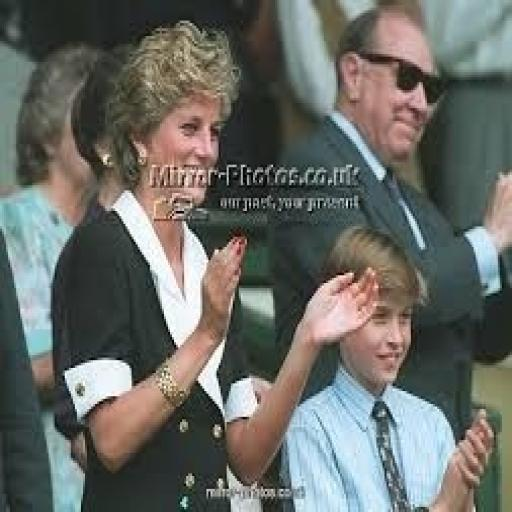clapping: (48, 18, 378, 509)
